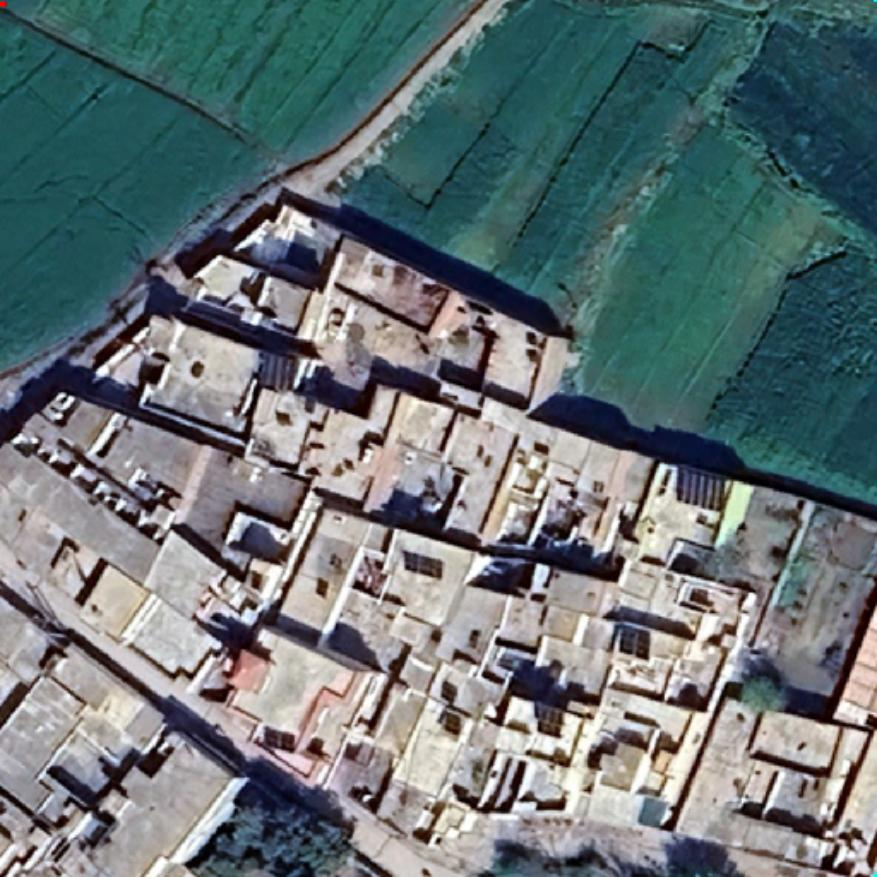Solarpanel: (672, 462, 732, 514), (254, 347, 302, 395), (395, 549, 445, 581), (615, 622, 653, 662), (533, 701, 567, 738)
